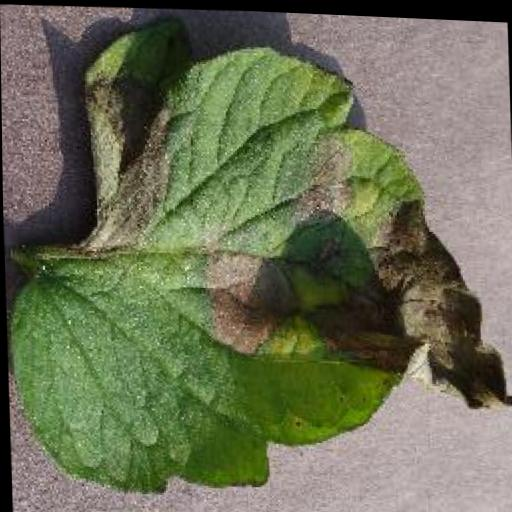Late Blight: (0, 5, 512, 510)
